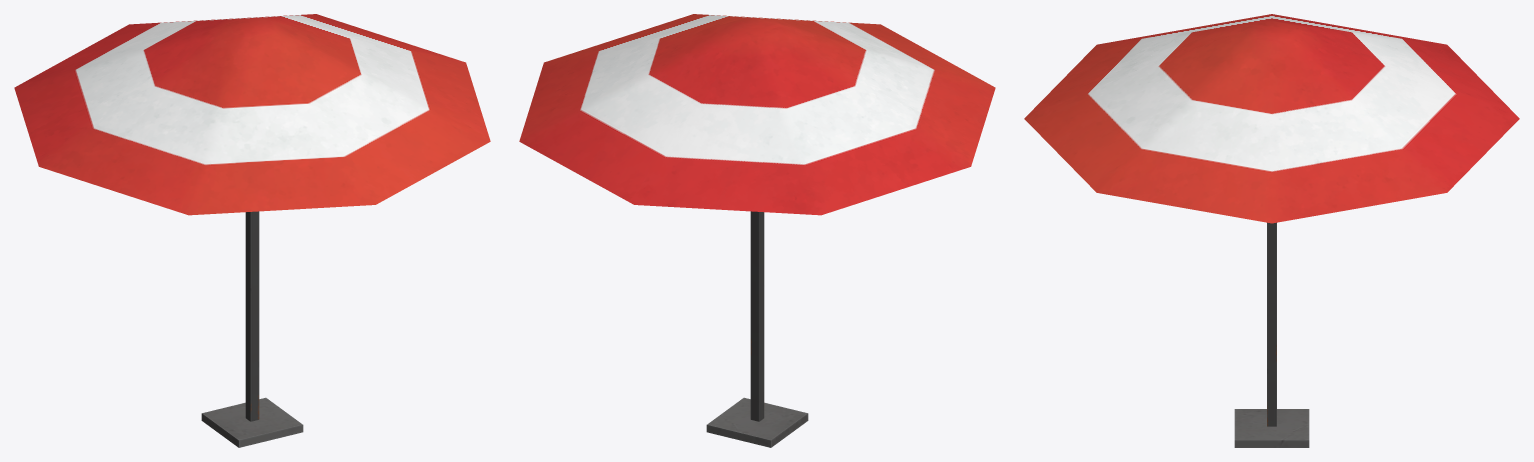
Rendered from SM_Props_Umbrella_02.glb.
The picture shows the model from 3 angles, left to right: view 1: azimuth 30°, elevation 25°; view 2: azimuth 150°, elevation 25°; view 3: azimuth 270°, elevation 25°; orthographic projection.
Visible parts, largest first — view 1: SM_Props_Umbrella_01; view 2: SM_Props_Umbrella_01; view 3: SM_Props_Umbrella_01.
Boxes of the visible parts, bbox=[...] form: SM_Props_Umbrella_01: bbox=[14, 14, 490, 447]; SM_Props_Umbrella_01: bbox=[519, 14, 995, 447]; SM_Props_Umbrella_01: bbox=[1024, 14, 1519, 447].
Size of the model in its own units: 3.11 by 2.77 by 3.11.
Materials: 2 (2 with a texture image).
